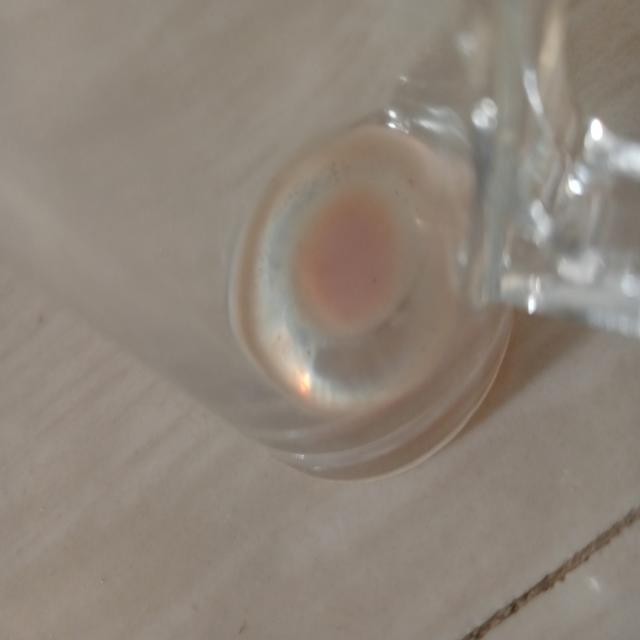glass-VX4N: (1, 1, 640, 484)
